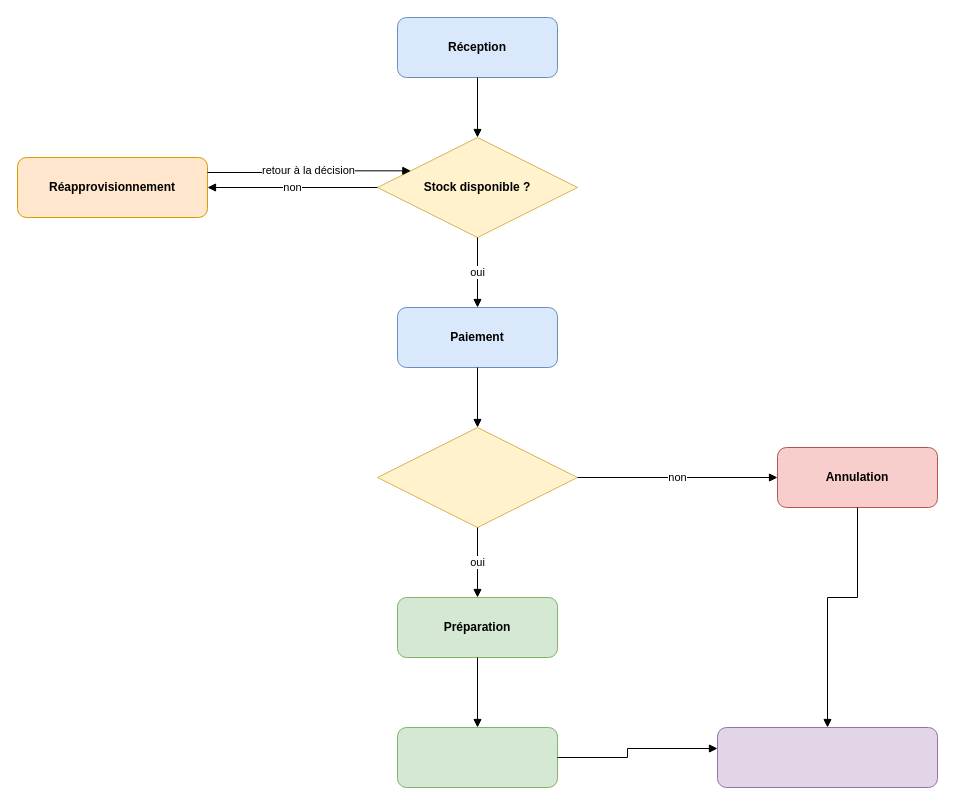
The diagram is 955 pixels wide and 805 high, and some of its shapes have lost their labels. The centre of each missing label's shape, as x and y in pixels:
Expédition: (477,757)
Notification client: (827,757)
Paiement accepté ?: (477,477)
